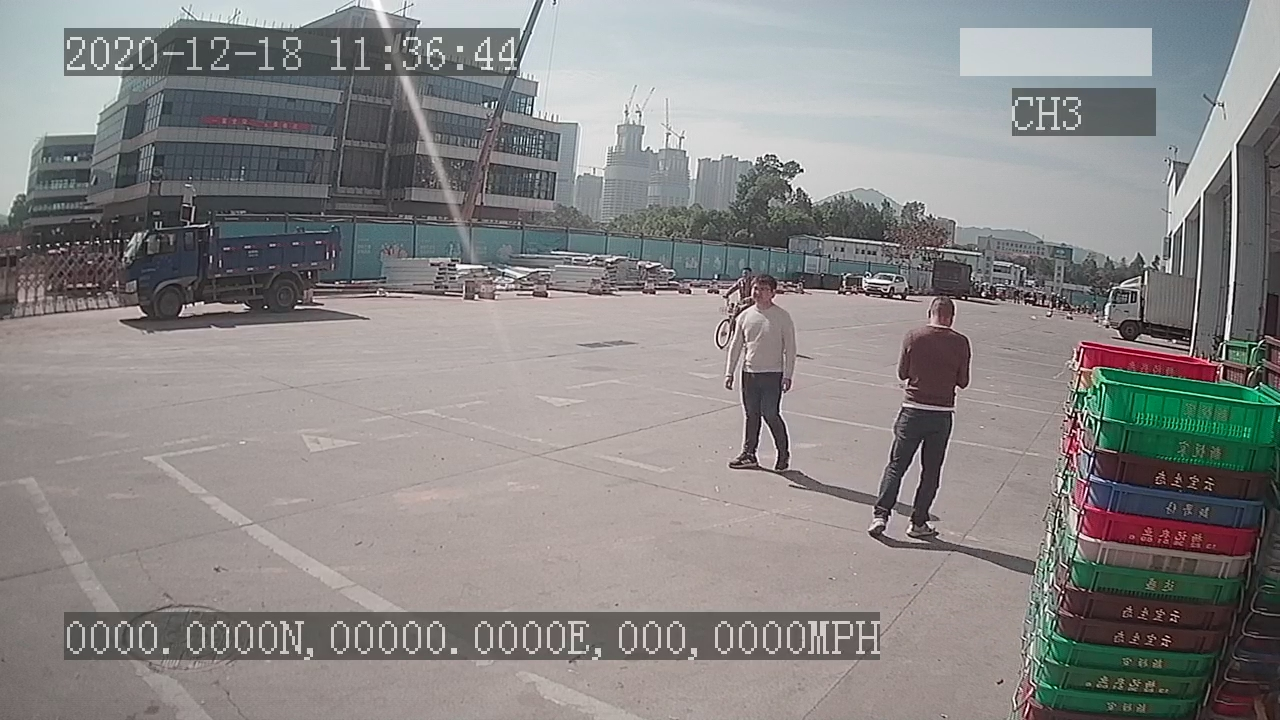person: (869, 291, 972, 543)
